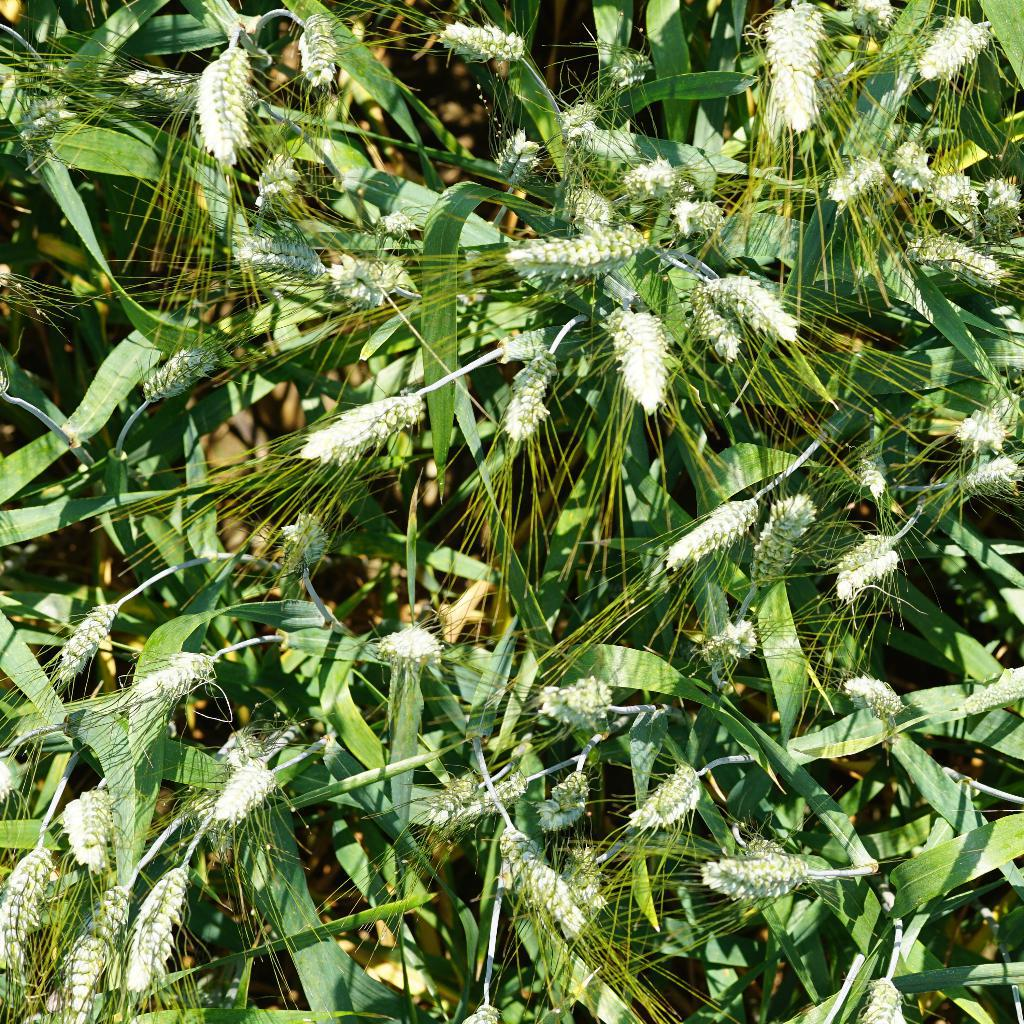0-0: (45, 859, 139, 1024), (638, 475, 766, 576), (281, 376, 430, 460), (185, 27, 265, 182), (493, 819, 593, 937), (591, 290, 679, 423), (694, 254, 804, 352), (750, 0, 822, 148), (119, 859, 194, 1000), (501, 213, 650, 283), (886, 225, 1021, 295), (736, 488, 817, 602), (223, 220, 337, 298), (817, 516, 909, 610), (123, 337, 235, 414), (610, 751, 716, 832), (104, 642, 220, 714), (2, 843, 60, 987), (904, 2, 994, 93), (415, 4, 534, 70), (690, 843, 815, 903), (48, 587, 120, 684), (275, 6, 347, 97), (503, 347, 570, 444), (60, 778, 123, 875), (538, 757, 606, 843), (317, 251, 408, 311), (686, 284, 750, 369), (836, 662, 914, 729), (215, 755, 280, 832), (533, 672, 623, 727), (105, 55, 200, 107), (549, 838, 610, 918), (265, 503, 335, 568), (18, 94, 79, 167), (854, 955, 915, 1024), (829, 135, 885, 206), (363, 617, 444, 666), (586, 40, 665, 90), (945, 397, 1016, 452), (881, 135, 942, 197), (456, 770, 533, 818), (362, 205, 444, 250), (485, 122, 539, 189), (425, 768, 485, 828), (701, 615, 766, 668), (957, 452, 1024, 503), (243, 153, 310, 202), (931, 167, 979, 235), (657, 187, 724, 234), (967, 163, 1024, 216), (617, 152, 676, 200), (854, 435, 895, 503), (844, 0, 901, 47), (548, 103, 600, 149), (560, 176, 606, 221)
